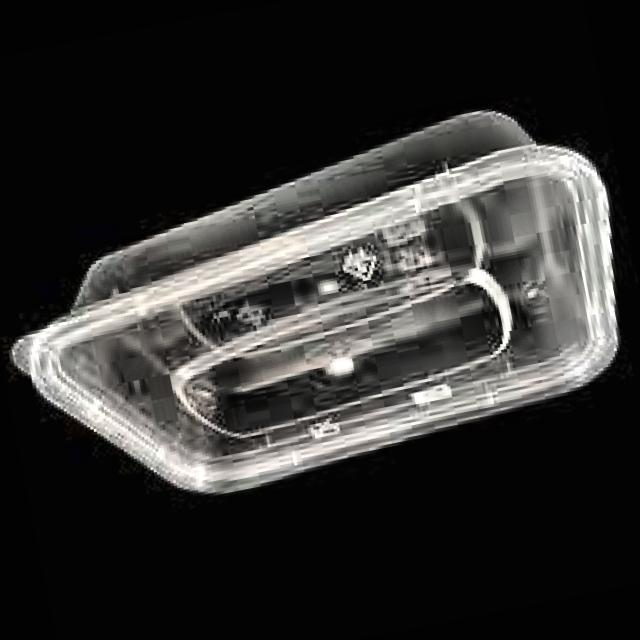plastic container: (14, 113, 619, 494)
